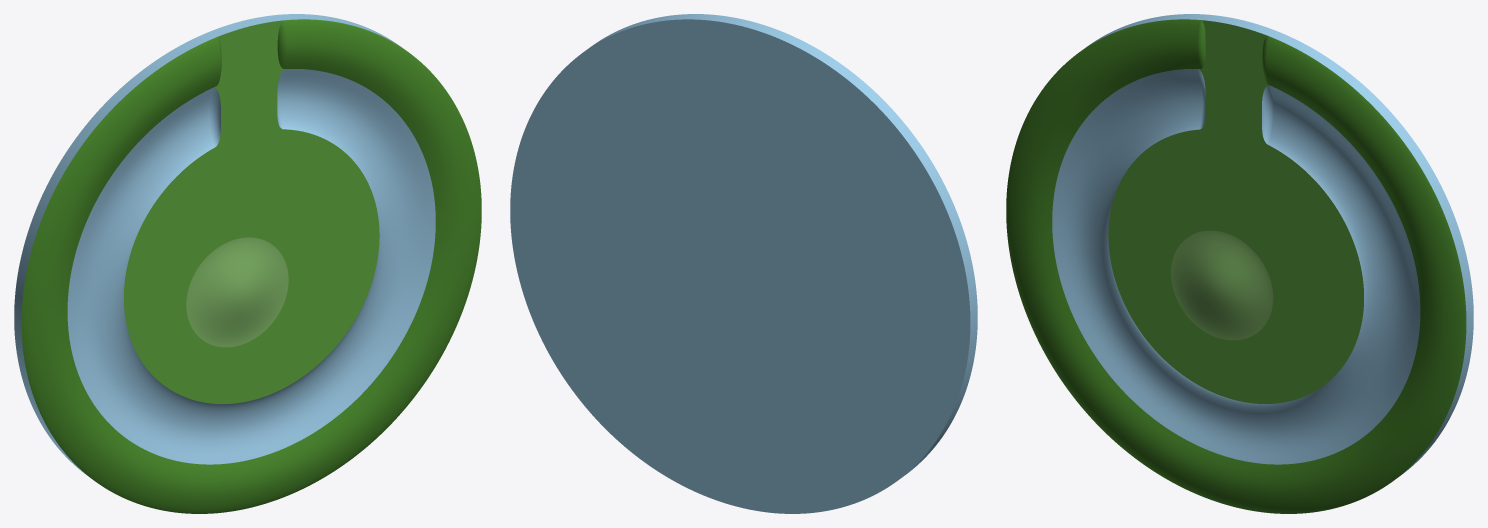
Rendered from OBJ Southwest Circle.obj.
3 views of the same model, side by side, from view 1: azimuth 30°, elevation 25°; view 2: azimuth 150°, elevation 25°; view 3: azimuth 330°, elevation 25° (orthographic).
Visible parts, largest first — view 1: mesh2, mesh3, mesh1, mesh0, mesh11, mesh6; view 2: mesh14, mesh11; view 3: mesh2, mesh3, mesh1, mesh0, mesh11, mesh4.
Part boxes in pixels (x1=…): mesh2: x1=21, y1=19, x2=481, y2=513; mesh3: x1=67, y1=69, x2=435, y2=464; mesh1: x1=124, y1=20, x2=379, y2=403; mesh0: x1=186, y1=237, x2=288, y2=347; mesh11: x1=14, y1=14, x2=401, y2=477; mesh6: x1=208, y1=87, x2=220, y2=147; mesh14: x1=510, y1=19, x2=970, y2=513; mesh11: x1=590, y1=14, x2=977, y2=477; mesh2: x1=1006, y1=19, x2=1466, y2=513; mesh3: x1=1052, y1=69, x2=1420, y2=464; mesh1: x1=1108, y1=20, x2=1363, y2=403; mesh0: x1=1171, y1=230, x2=1273, y2=340; mesh11: x1=1086, y1=14, x2=1473, y2=477; mesh4: x1=1262, y1=85, x2=1273, y2=144.
Bounding box in the file's own units: 4.57 × 4.57 × 0.2032.
